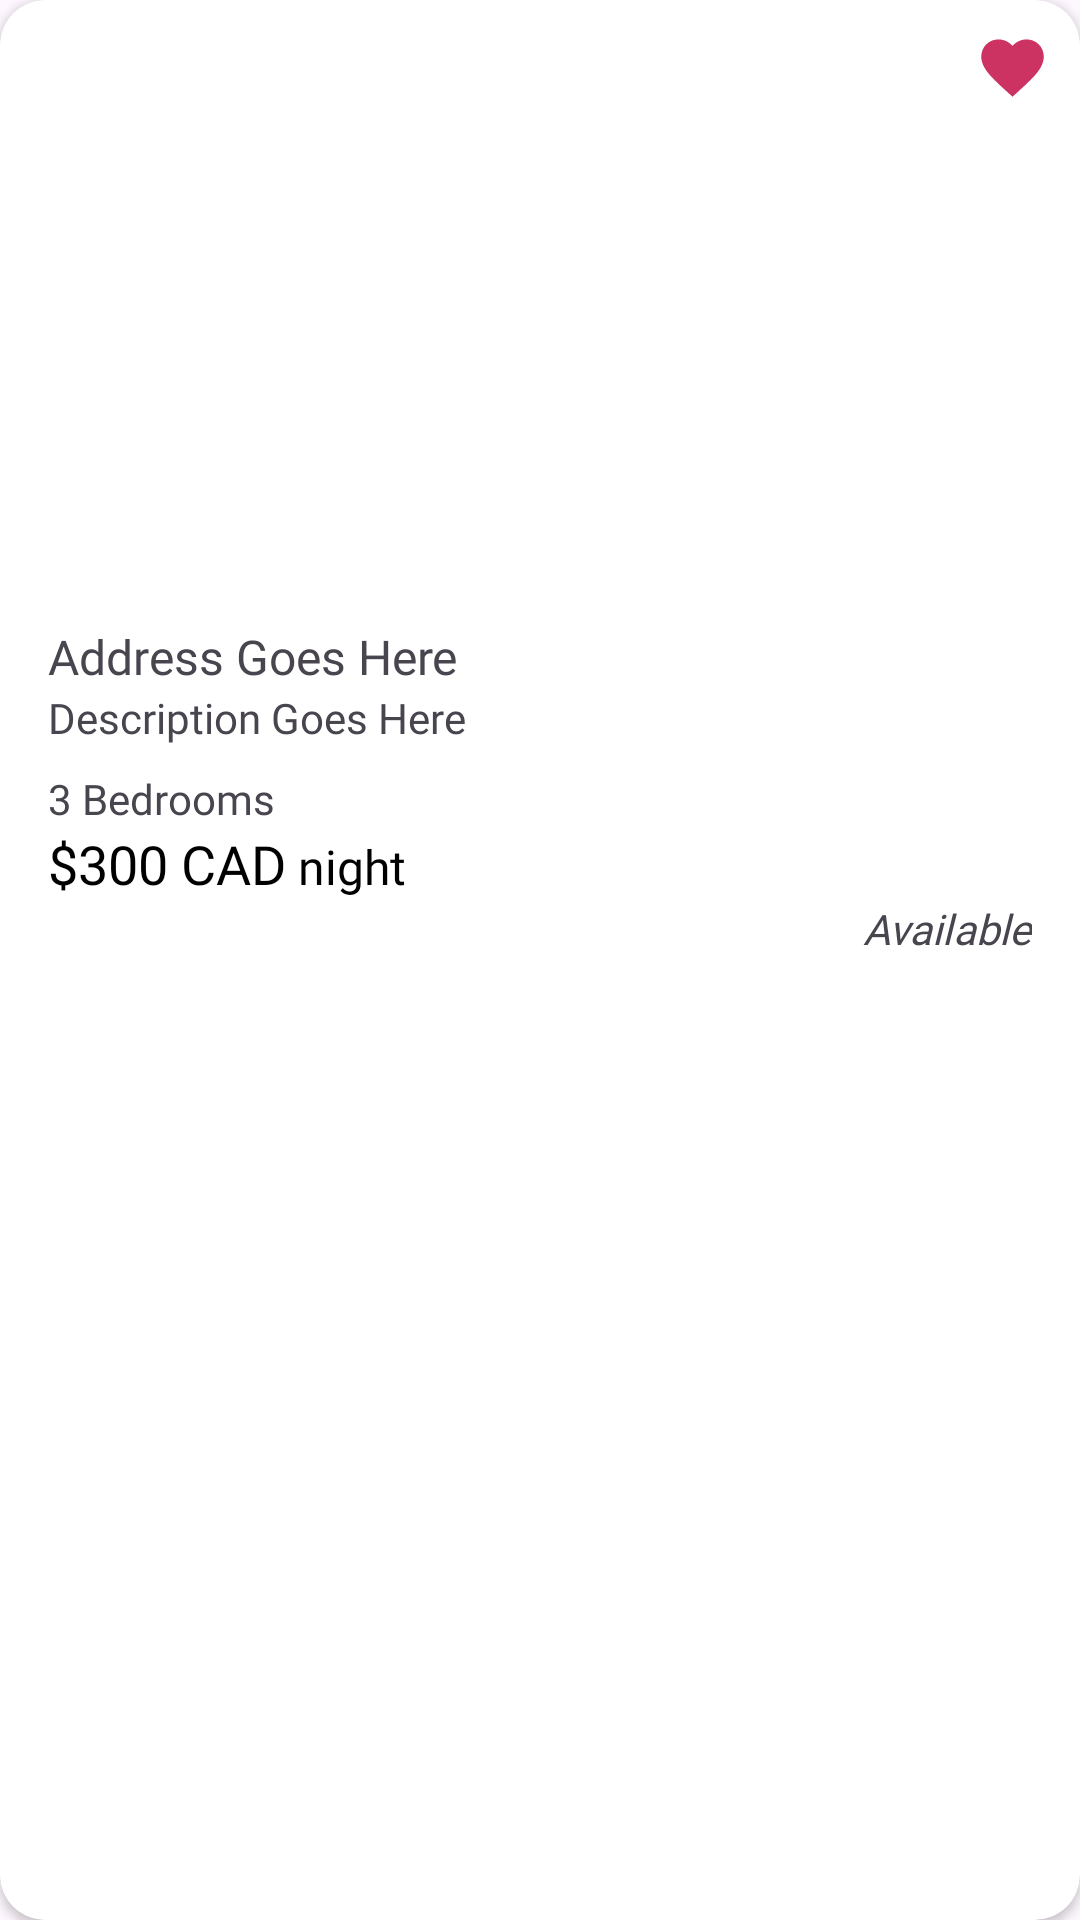

Icons on this 1080 × 1920 Android screen, each with its box as (x1, y1, x2, y2):
fav: (981, 39, 1044, 97)
